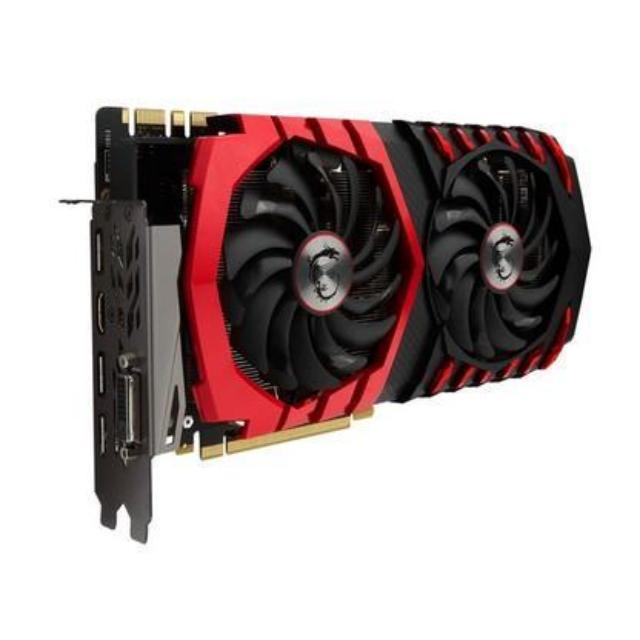GPU: (86, 92, 600, 466)
